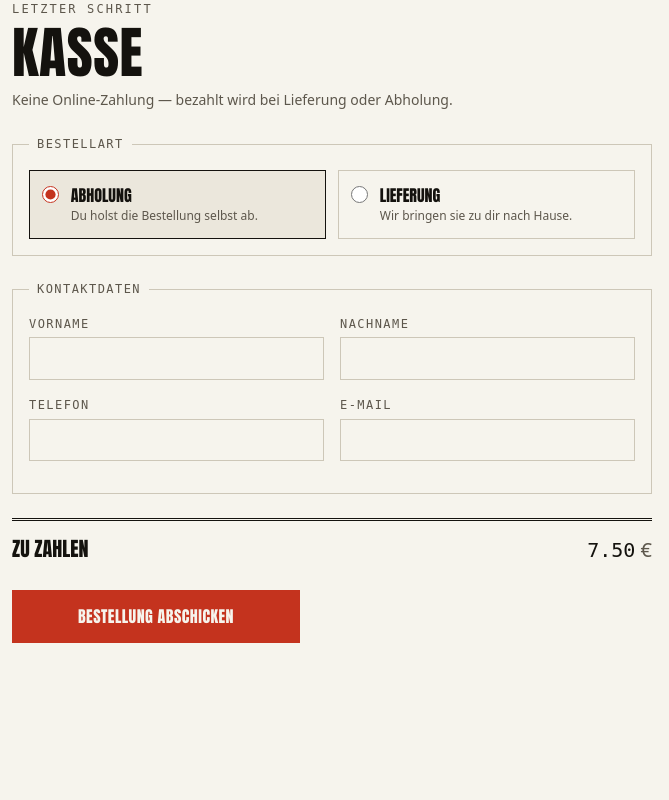
Scenario: CheckoutComponent › blocks submission when delivery address fields are missing
Type "Mario" into the field labelled "Vorname".
click(176, 359); type("Mario")  # box top-left (29, 337), bottom-right (324, 380)
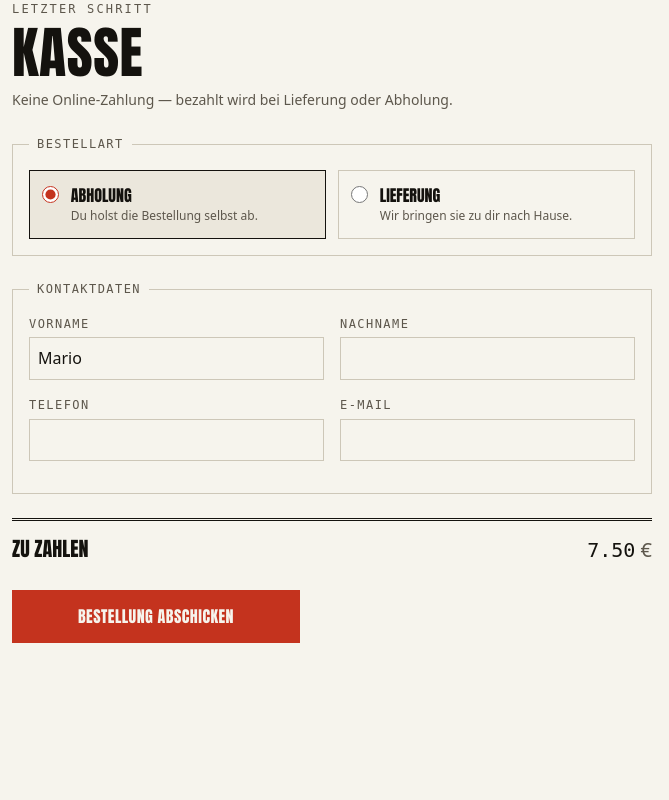
Type "Rossi" into the field labelled "Nachname".
click(488, 359); type("Rossi")  # box top-left (340, 337), bottom-right (635, 380)
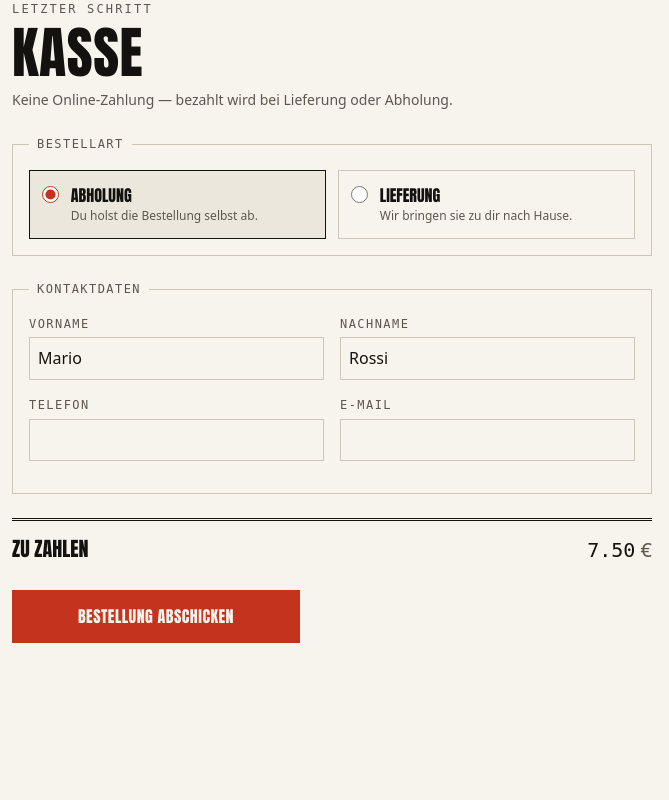
Type "0123456789" into the field labelled "Telefon".
click(176, 440); type("0123456789")  # box top-left (29, 419), bottom-right (324, 461)
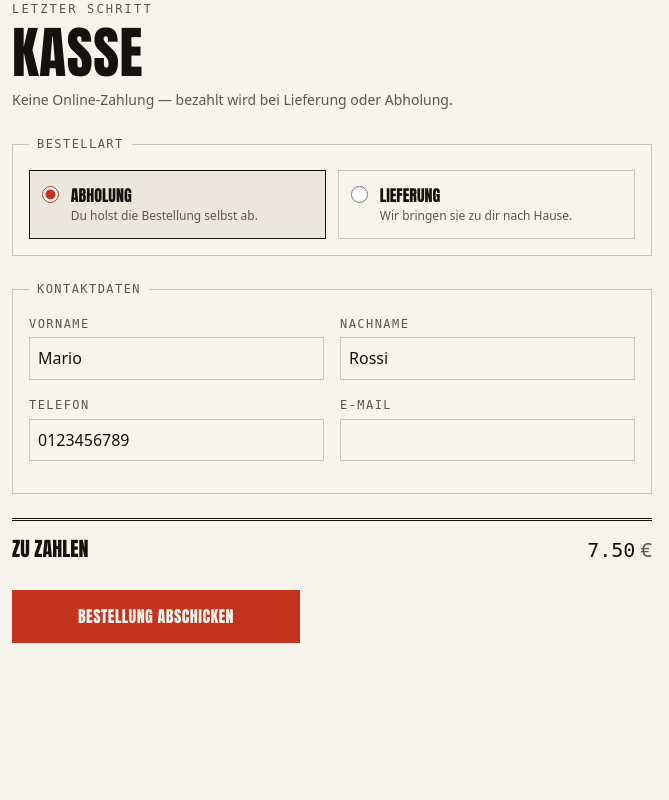
Type "mario@example.com" into the field labelled "E-Mail".
click(488, 440); type("mario@example.com")  # box top-left (340, 419), bottom-right (635, 461)
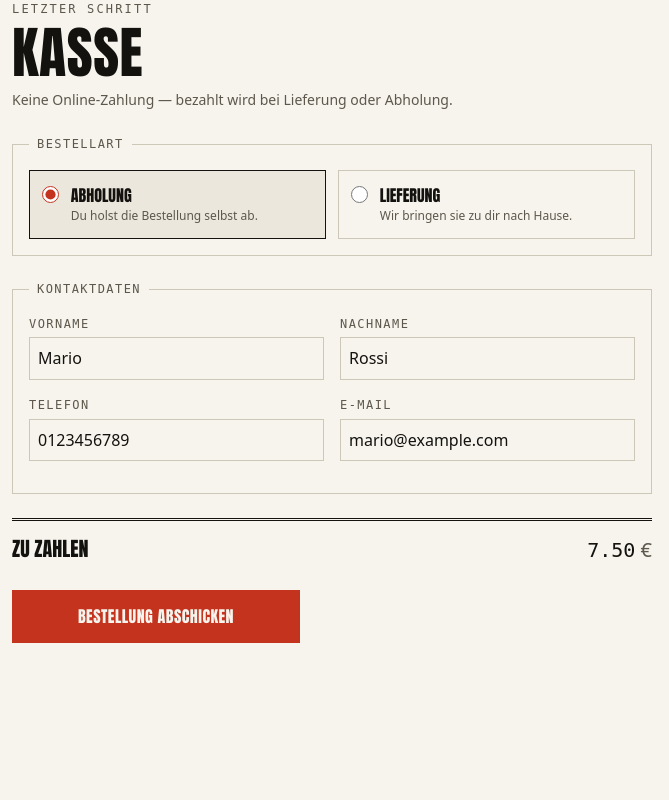
Click the radio button with test id "order-type-delivery".
click(359, 194)  # box top-left (351, 186), bottom-right (368, 203)
(page scrolled)
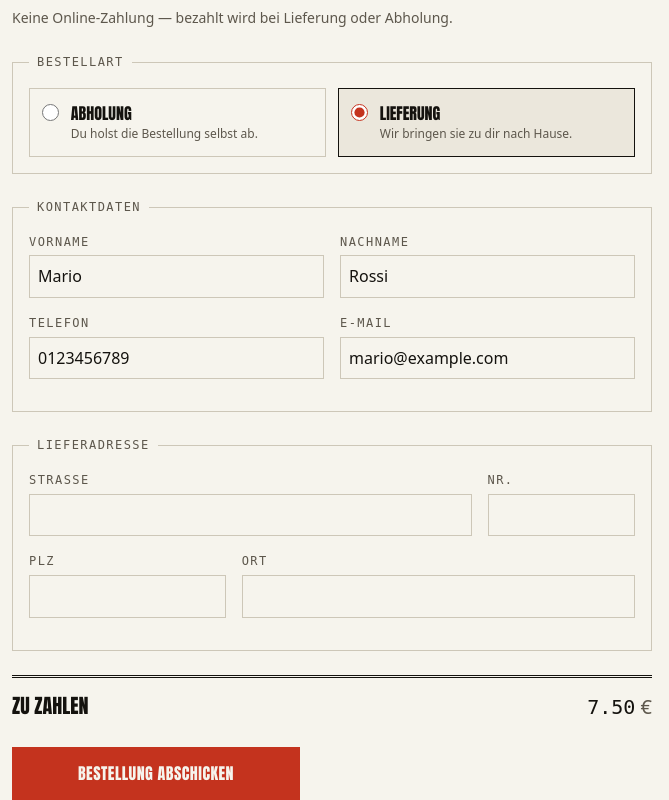
Submit the form
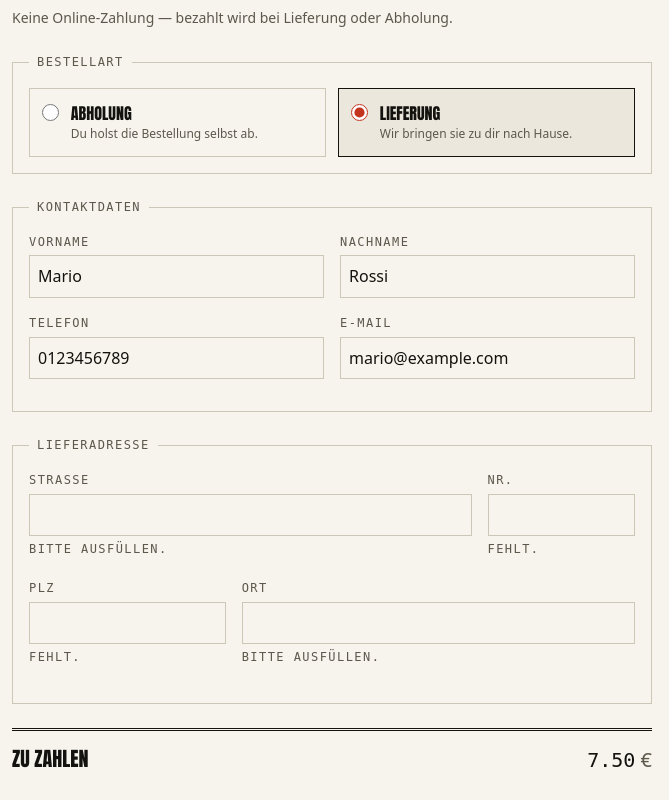
Now the text "Bitte ausfüllen." is shown, box top-left (29, 542), bottom-right (168, 556)
